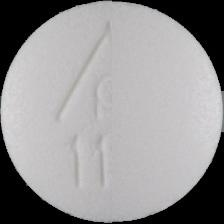0536-4544: (0, 0, 224, 224)
